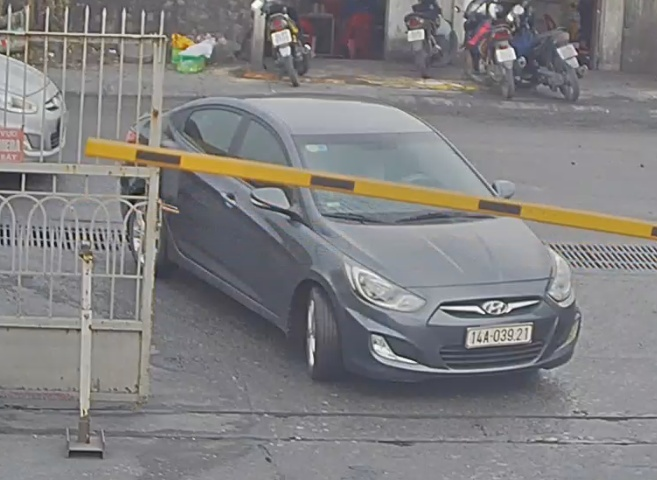vehicle plate: (460, 320, 544, 350)
